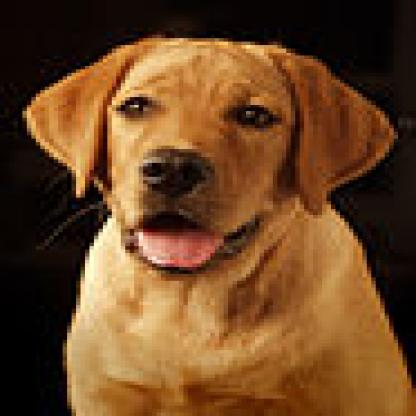dog: (22, 38, 416, 416)
